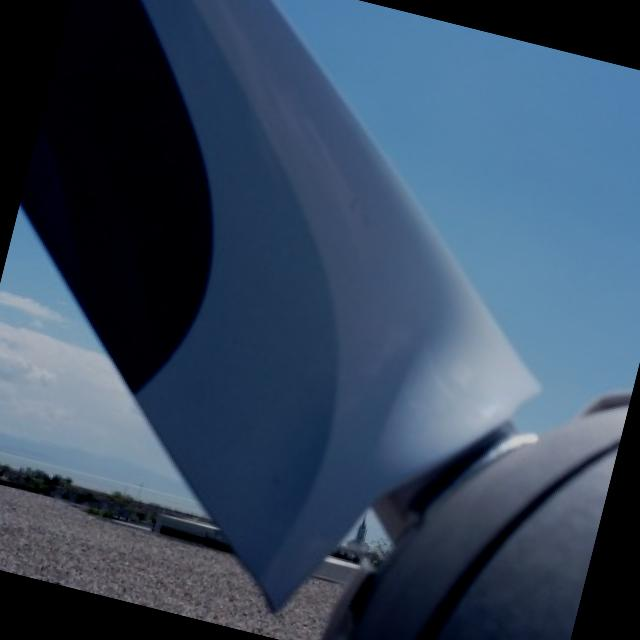healthy: (328, 407, 624, 640)
